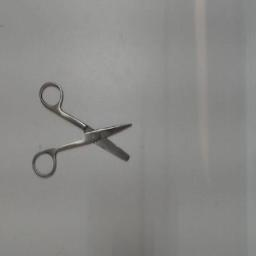Dressing Scissors: (27, 74, 139, 182)
